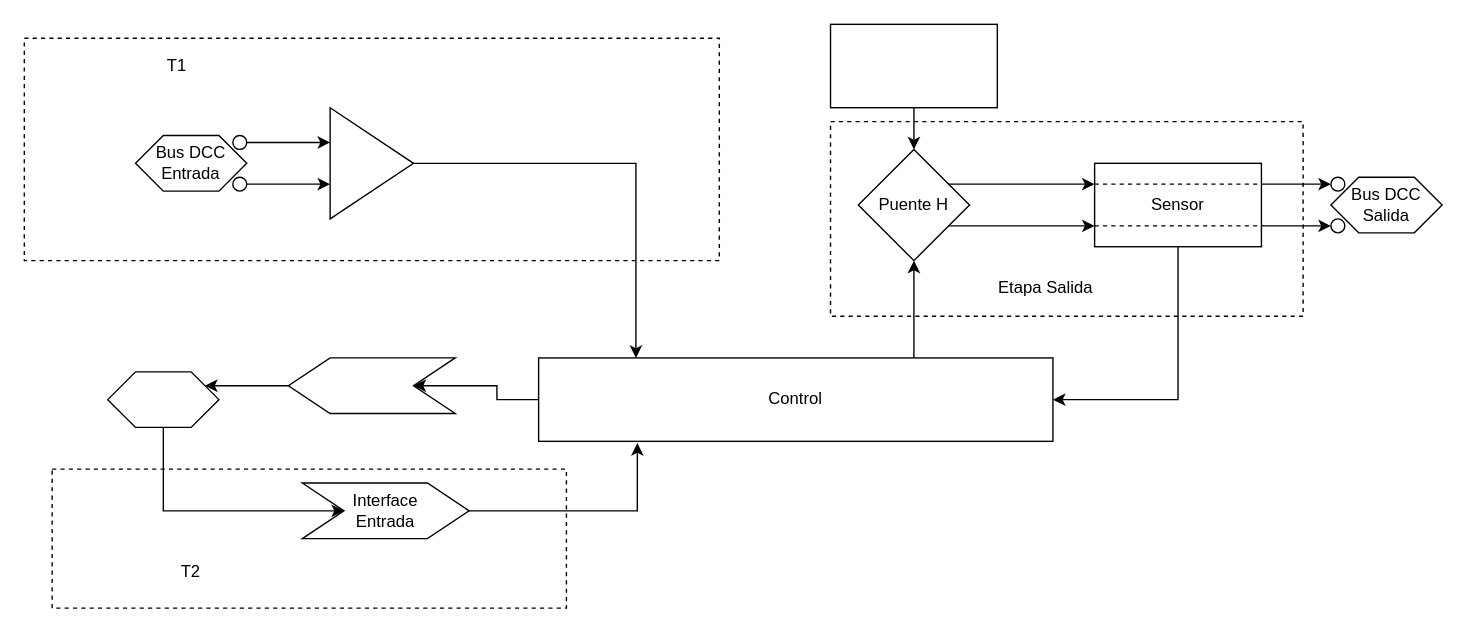
This 1466x632 diagram has some shape labels left out. The shapes that lost their labels are listed below. From the top down, each one's centre as x and y in pixels, then its label:
point (913, 65): Alimentación
point (162, 398): Red DCC
point (371, 385): Interface Salida
